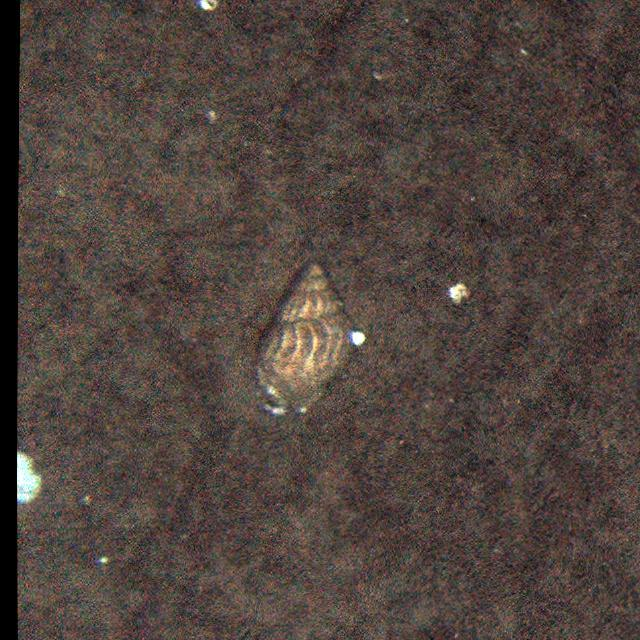whelk: (266, 264, 348, 409)
